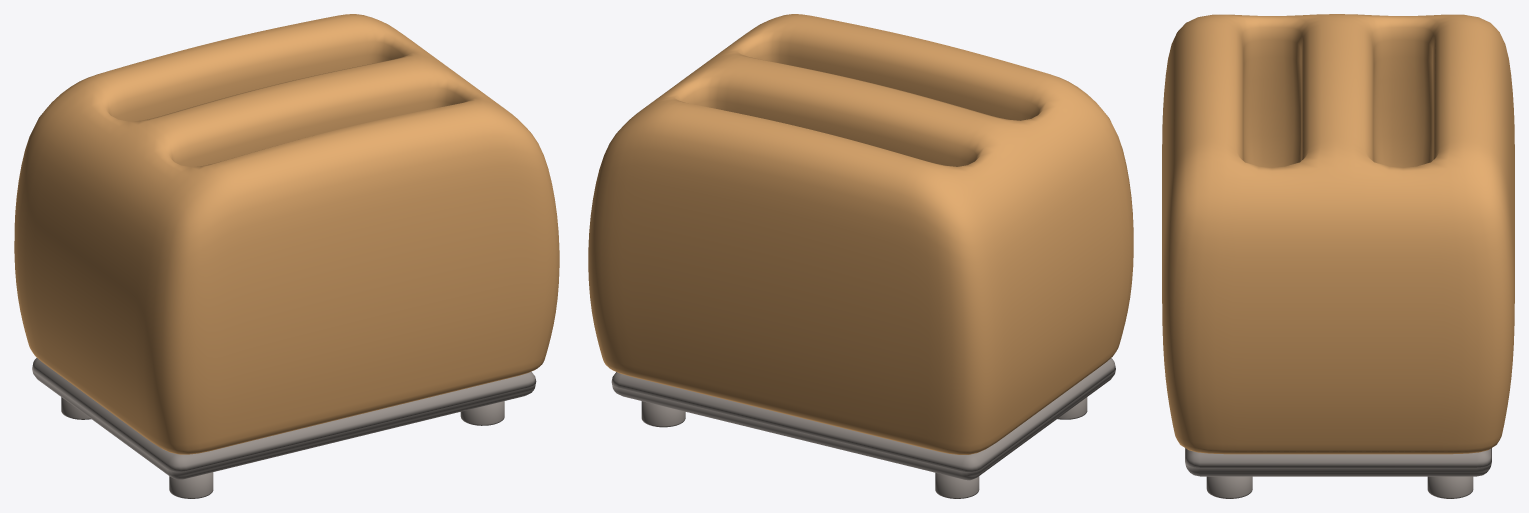
Rendered from Char_Body3.fbx.
The picture shows the model from 3 angles, left to right: view 1: azimuth 30°, elevation 25°; view 2: azimuth 150°, elevation 25°; view 3: azimuth 270°, elevation 25°; orthographic projection. The views are drawn at different scales.
Visible parts, largest first — view 1: Cylinder.005; view 2: Cylinder.005; view 3: Cylinder.005.
Boxes of the visible parts, x1,y1,x2,y2 form: Cylinder.005: (14, 14, 559, 498); Cylinder.005: (588, 14, 1133, 498); Cylinder.005: (1162, 14, 1514, 498).
Size of the model in its own units: 75.8 by 58.29 by 54.9.
